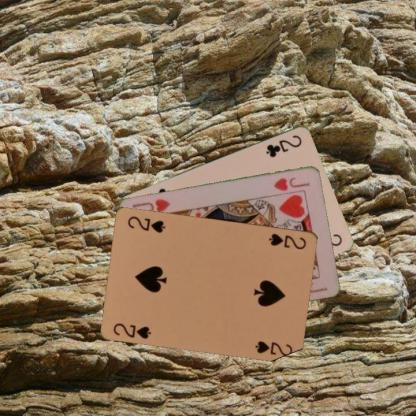2c: (263, 132, 304, 158)
2s: (266, 230, 308, 250), (111, 320, 152, 340)
Jh: (271, 174, 311, 192)
